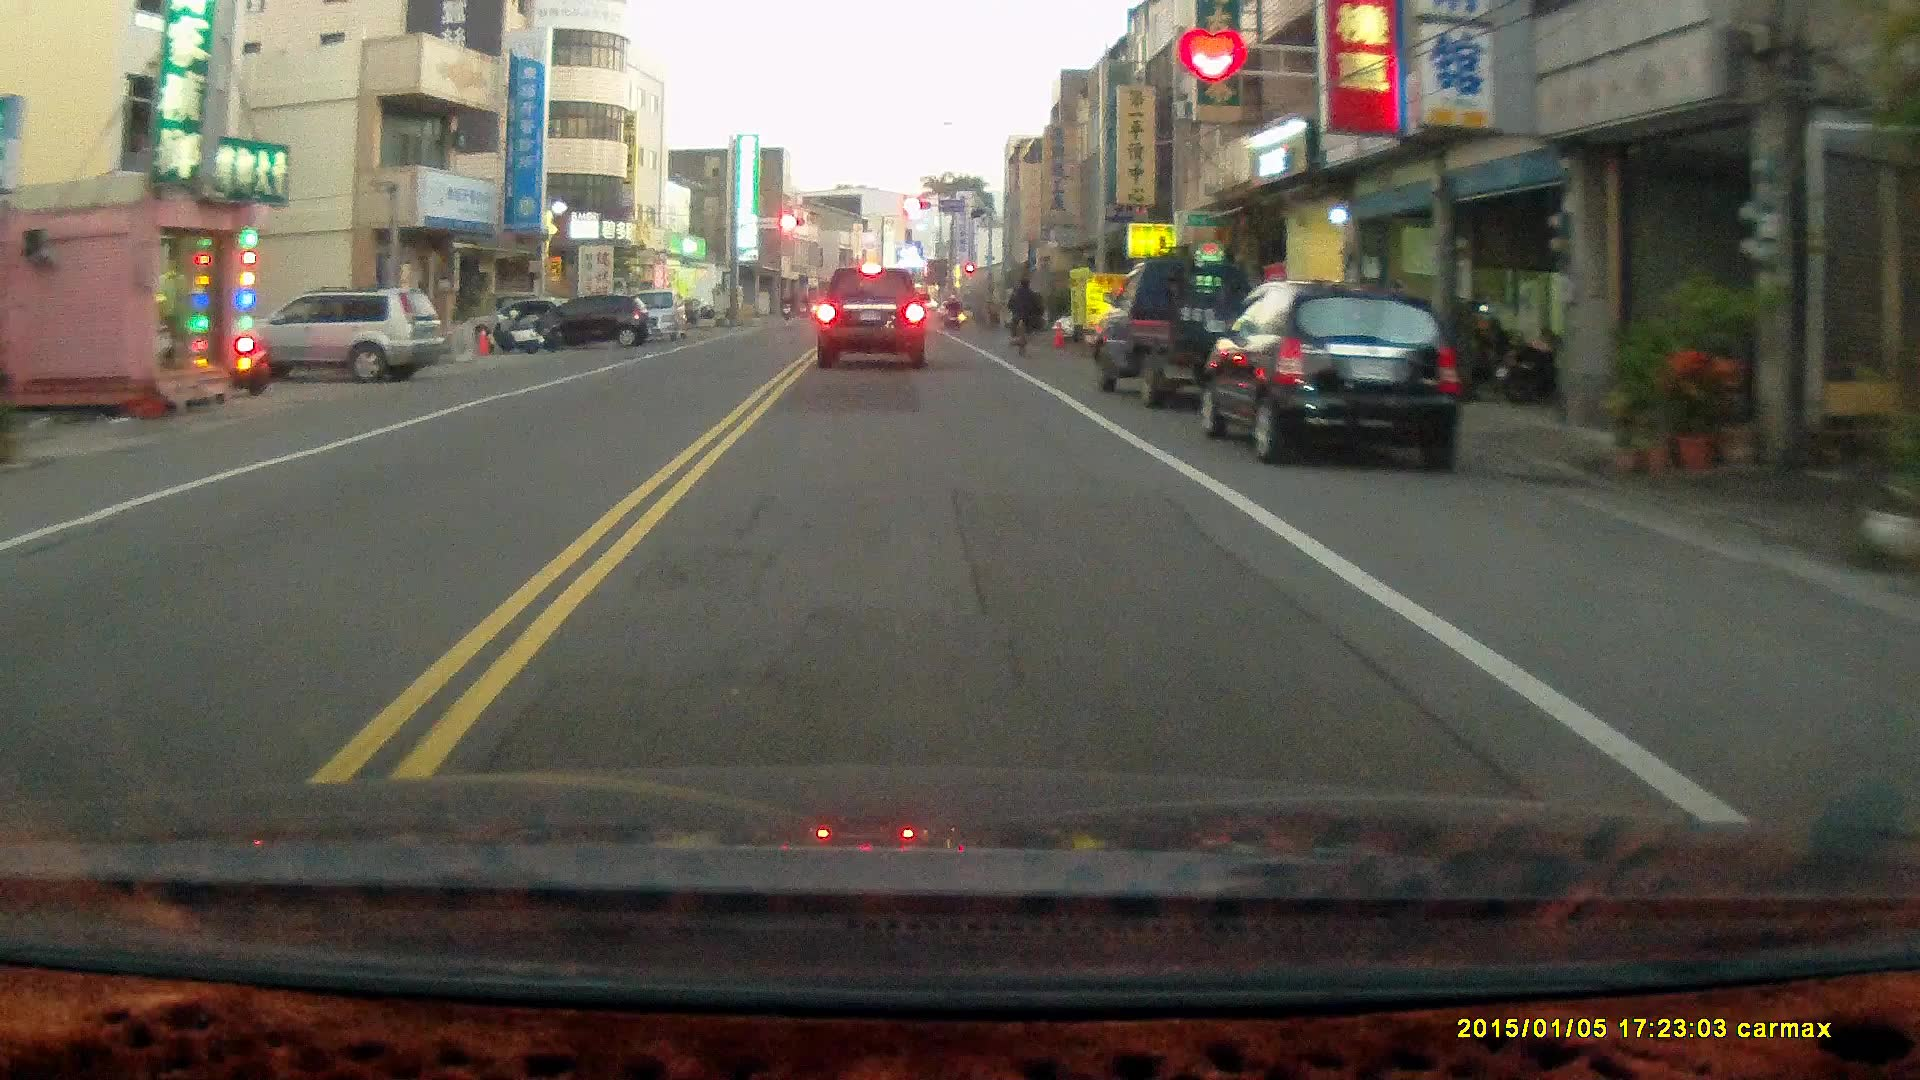rider: (1003, 273, 1038, 355)
vehicle: (1199, 280, 1462, 468), (1090, 253, 1287, 408), (228, 291, 448, 390), (815, 263, 930, 370), (530, 293, 655, 350)
